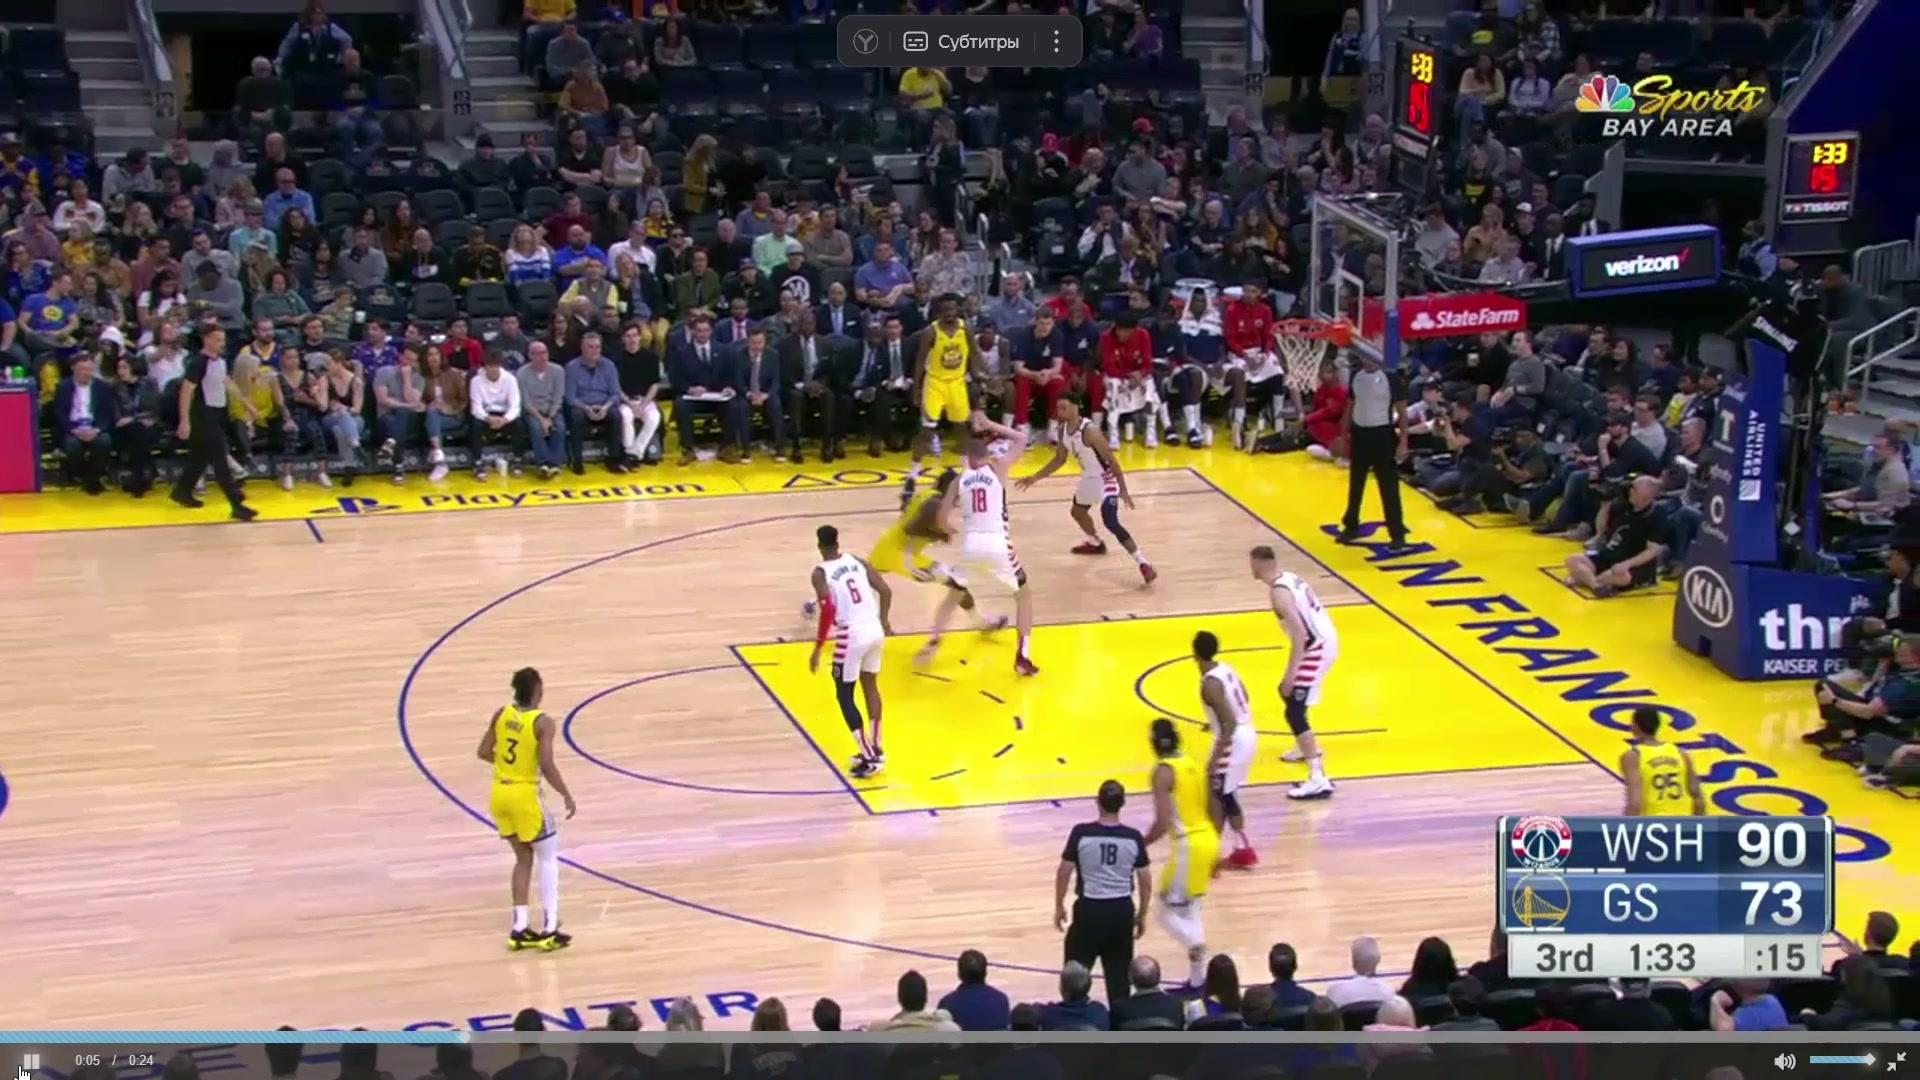foul: (866, 415, 1065, 684)
